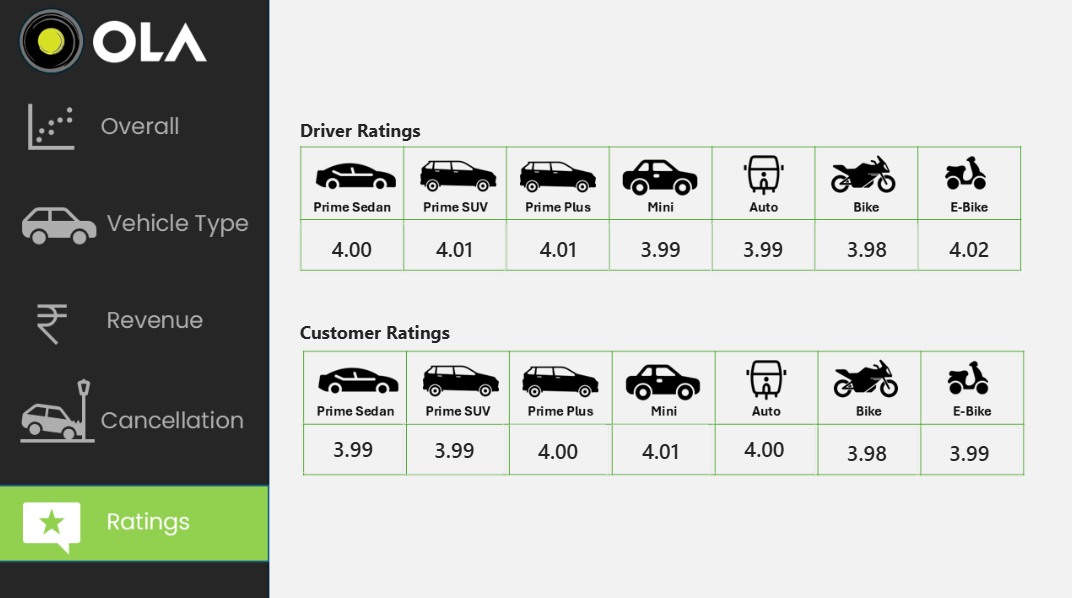

Layout of this report page (visuals, bound fields, positions):
{"tool":"powerbi","page":{"name":"Ratings","canvas":[1920,1080],"ordinal":4},"visuals":[{"type":"actionButton","box":[0,166,486,132],"z":0},{"type":"actionButton","box":[0,332,486,132],"z":1000},{"type":"actionButton","box":[0,506,486,132],"z":2000},{"type":"actionButton","box":[0,666,486,132],"z":3000}]}

Visuals, with their boxes on the page's 1920x1080 design canvas (x1, y1, x2, y2). These are canvas units, not pixel positions in the 1072x598 screenshot, which may show the page scaled, cropped or inside an application window:
actionButton: rect(0, 166, 486, 298)
actionButton: rect(0, 332, 486, 464)
actionButton: rect(0, 506, 486, 638)
actionButton: rect(0, 666, 486, 798)
